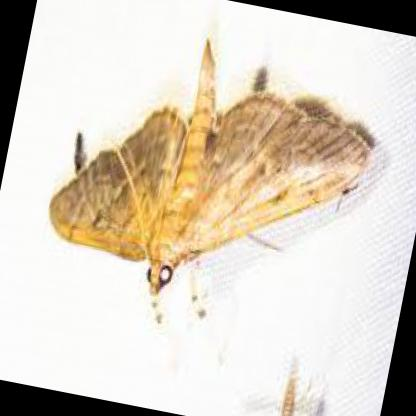Leaf Webber: (46, 30, 380, 309)
